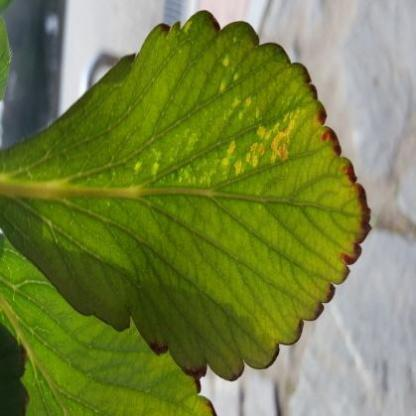Strawberry_Angular_LeafSpot: (127, 20, 310, 190)
